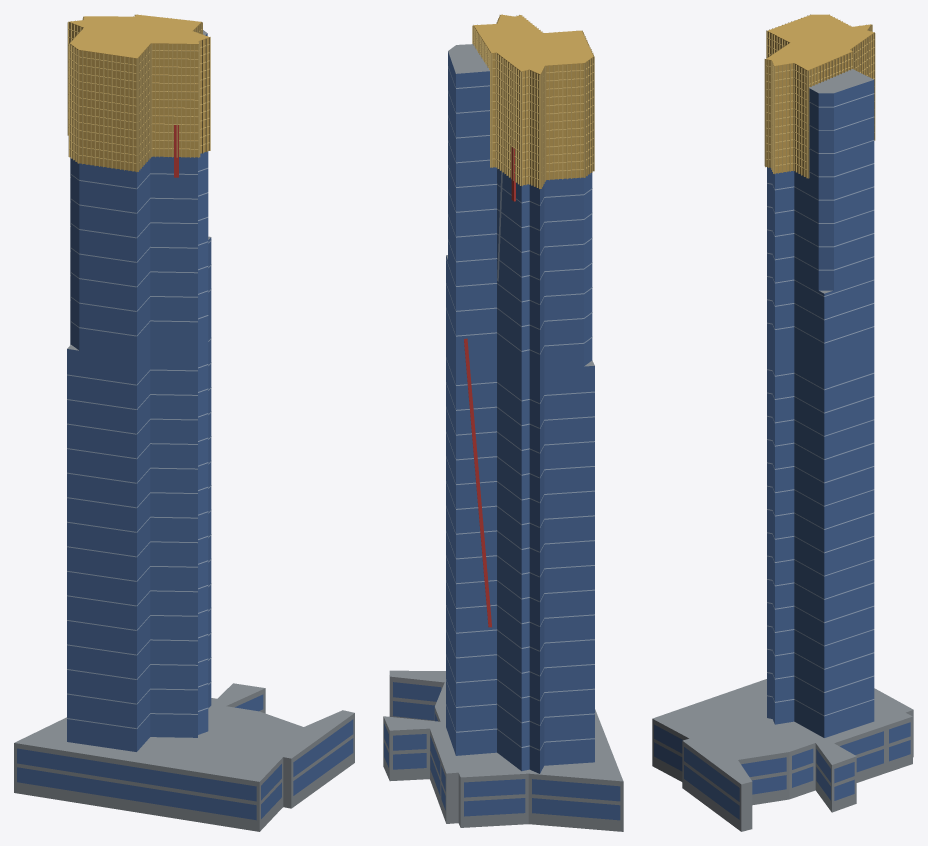
File: melbourne-eureka-tower.detail.glb
3 renders of one model, left to right at view 1: azimuth 30°, elevation 25°; view 2: azimuth 150°, elevation 25°; view 3: azimuth 270°, elevation 25°, orthographic. The views are drawn at different scales.
Parts seen in each view (by area): view 1: Eureka Tower; view 2: Eureka Tower; view 3: Eureka Tower.
Part boxes in pixels (<box>): Eureka Tower: <box>14,14,354,831</box>; Eureka Tower: <box>383,14,623,831</box>; Eureka Tower: <box>652,14,913,831</box>.
Size of the model in its own units: 120 by 297 by 99.7.
